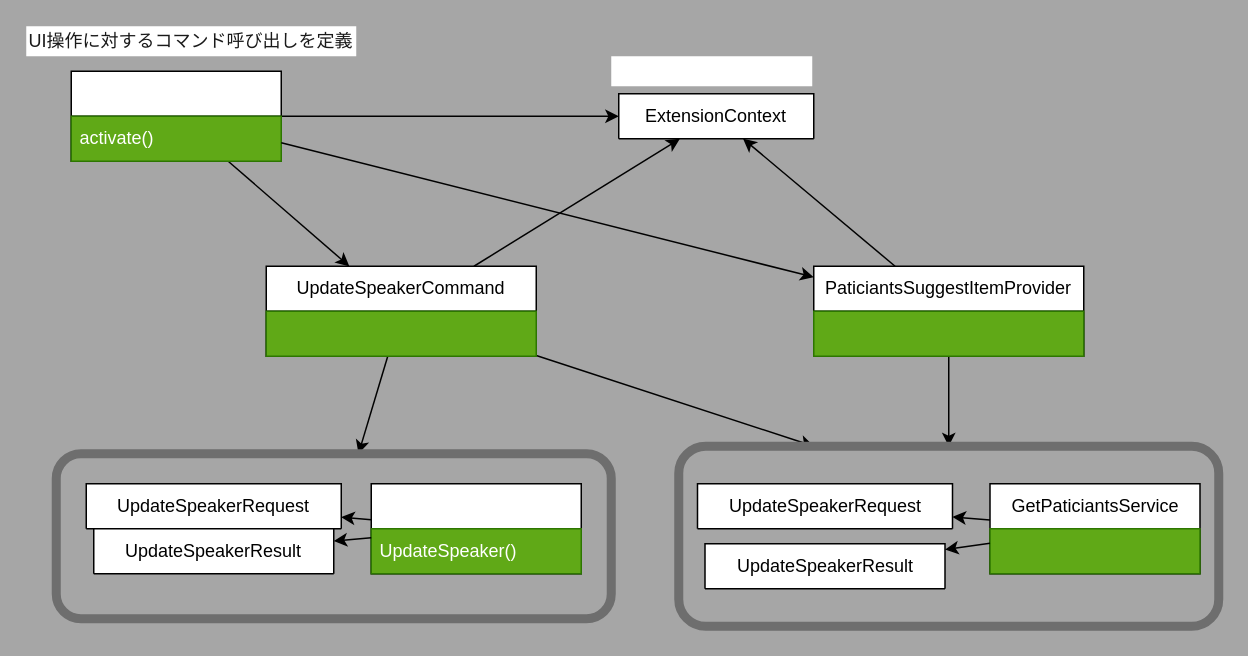
This 1248x656 diagram has some shape labels left out. Here are the shapes that lost their labels. From the top down, the box of each, then its label:
(610, 56, 812, 86): UIの共通処理を定義
(70, 70, 281, 161): extension
(265, 310, 536, 356): Execute()
(812, 310, 1084, 356): Provide()
(370, 482, 581, 574): UpdateSpeakerService
(988, 527, 1200, 574): GetPaticiants()
